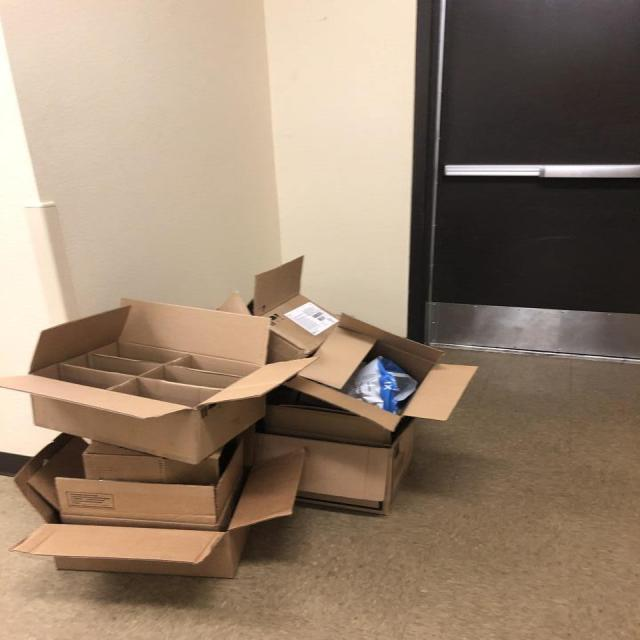cardboard: (37, 318, 386, 502)
